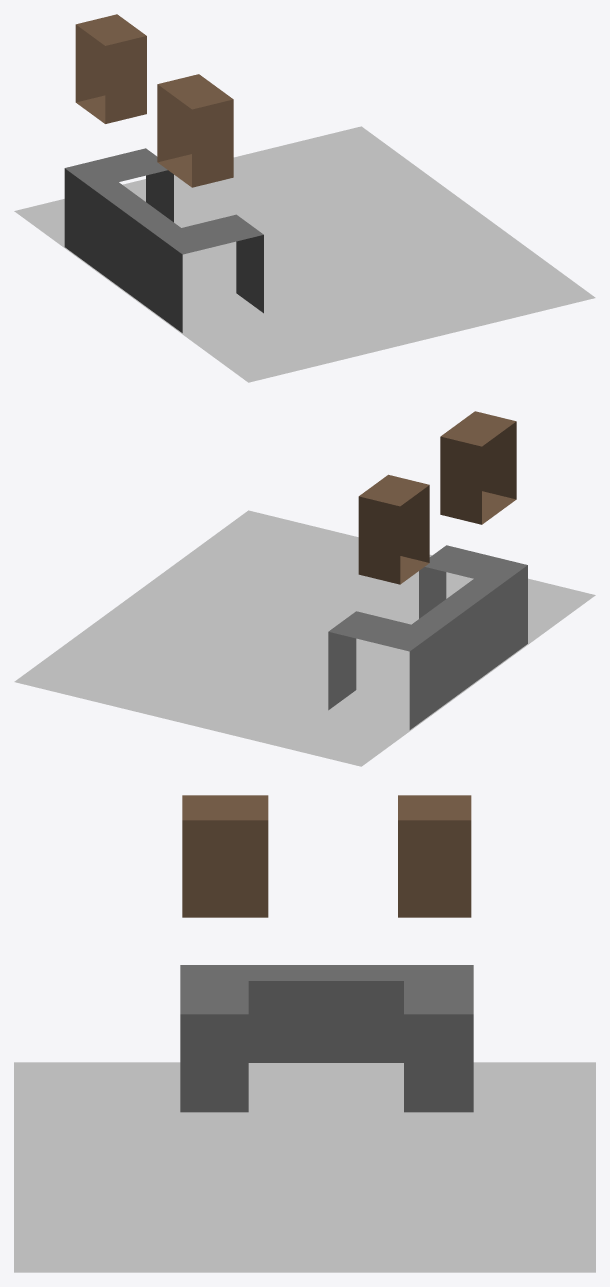
File: Kitchen_Counter_MDL.fbx
3 renders of one model, top to bottom at view 1: azimuth 30°, elevation 25°; view 2: azimuth 150°, elevation 25°; view 3: azimuth 270°, elevation 25°, orthographic. The views are drawn at different scales.
Visible parts, largest first — view 1: kitchen_top; view 2: kitchen_top; view 3: kitchen_top.
Part boxes in pixels (x1,y1,x2,y2): kitchen_top: [14, 14, 595, 382]; kitchen_top: [14, 411, 595, 766]; kitchen_top: [14, 795, 595, 1272].
Bounding box in the file's own units: 531 × 322 × 620.
